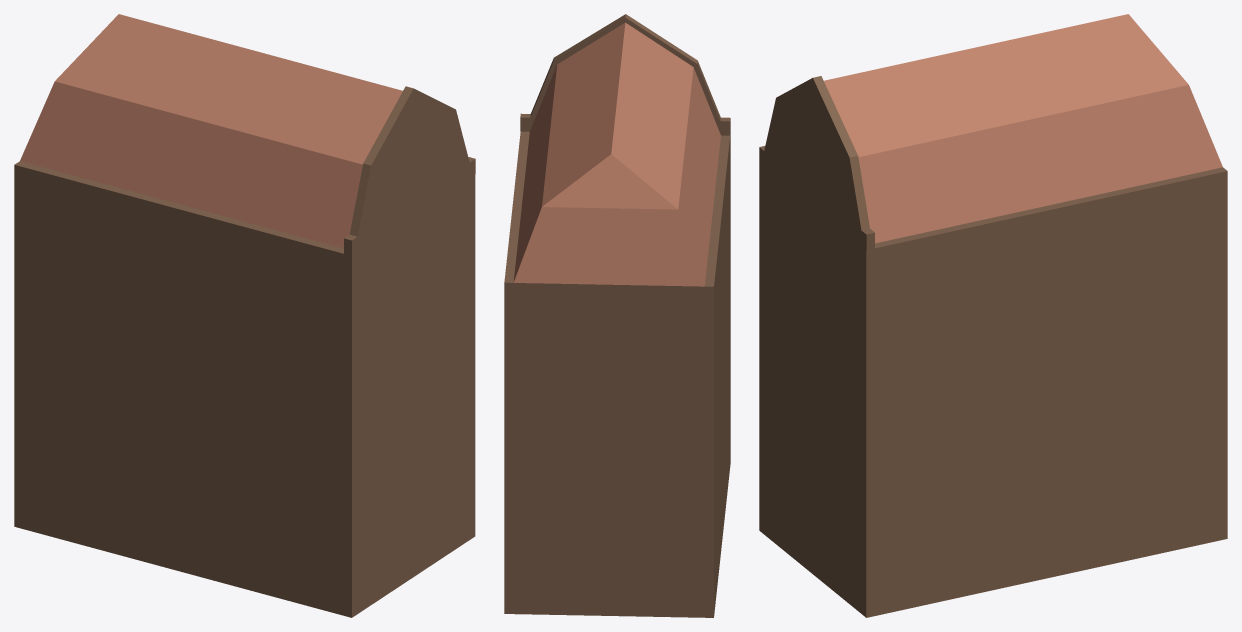
The model's file is Grote_Kattenburgerstraat_16.fbx.
3 views of the same model, side by side, from view 1: azimuth 30°, elevation 25°; view 2: azimuth 150°, elevation 25°; view 3: azimuth 270°, elevation 25° (orthographic). The views are drawn at different scales.
Parts seen in each view (by area): view 1: Grote_Kattenburgerstraat_16_walls, Grote_Kattenburgerstraat_16_roof; view 2: Grote_Kattenburgerstraat_16_walls, Grote_Kattenburgerstraat_16_roof; view 3: Grote_Kattenburgerstraat_16_walls, Grote_Kattenburgerstraat_16_roof.
Part boxes in pixels (x1,y1,x2,y2): Grote_Kattenburgerstraat_16_walls: [14, 161, 475, 617]; Grote_Kattenburgerstraat_16_roof: [20, 14, 475, 255]; Grote_Kattenburgerstraat_16_walls: [504, 131, 730, 617]; Grote_Kattenburgerstraat_16_roof: [513, 14, 730, 286]; Grote_Kattenburgerstraat_16_walls: [759, 163, 1227, 617]; Grote_Kattenburgerstraat_16_roof: [759, 14, 1222, 250].
Size of the model in its own units: 1059 by 1471 by 1258.
